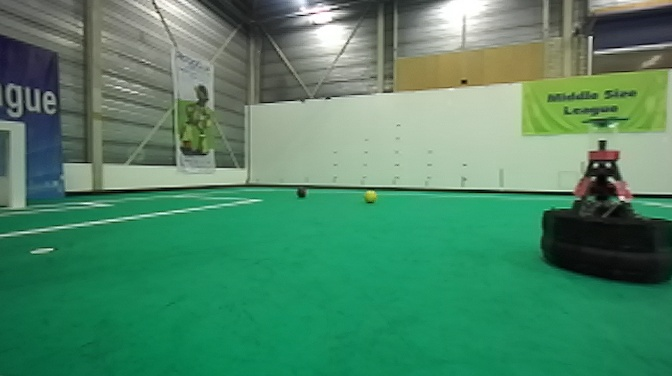ball: (361, 186, 379, 206), (295, 185, 309, 201)
goalpost: (7, 116, 28, 211)
robot: (536, 112, 672, 282)
